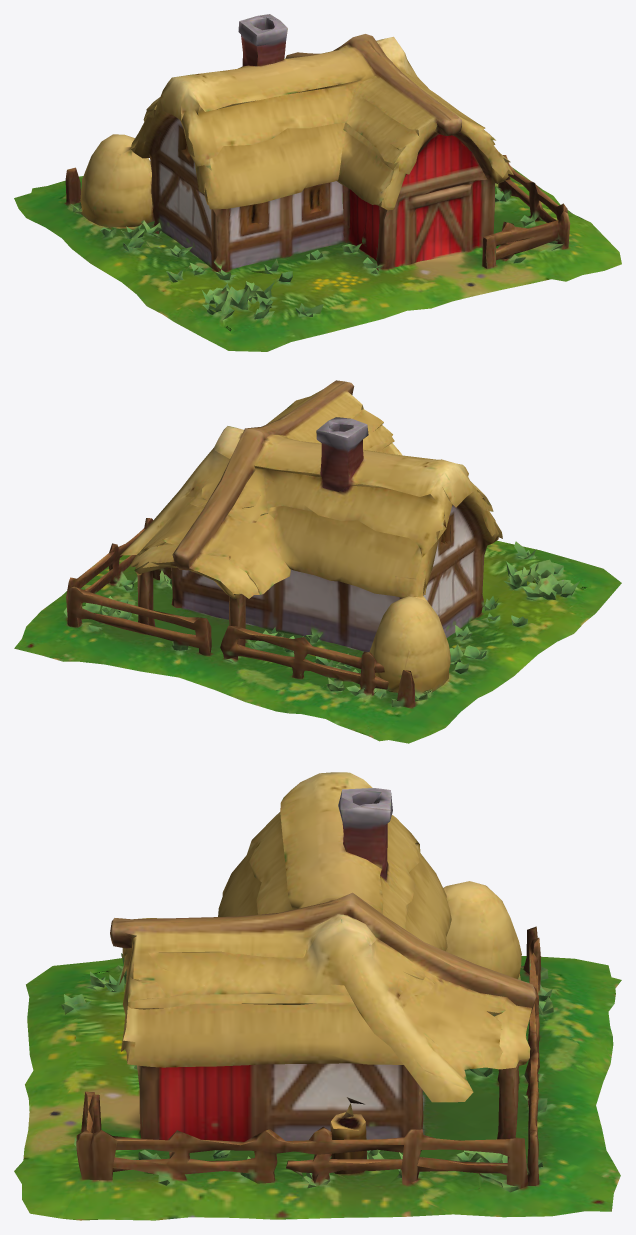
Rendered from village_plains_b.glb.
3 renders of one model, top to bottom at view 1: azimuth 30°, elevation 25°; view 2: azimuth 150°, elevation 25°; view 3: azimuth 270°, elevation 25°, orthographic. The views are drawn at different scales.
Visible parts, largest first — view 1: world; view 2: world; view 3: world.
Boxes of the visible parts, left/top/right/bottom form: world: left=14, top=14, right=621, bottom=351; world: left=14, top=380, right=621, bottom=743; world: left=14, top=772, right=621, bottom=1220.
Size of the model in its own units: 0.9881 by 0.4617 by 0.9449.
Materials: 1 (1 with a texture image).
